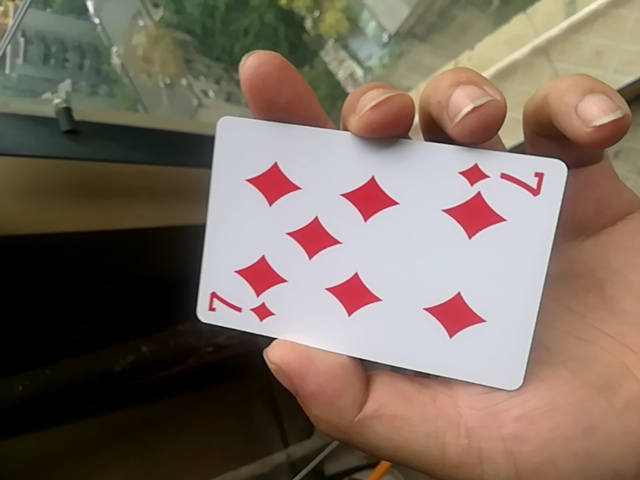fk 7: (192, 113, 571, 390)
